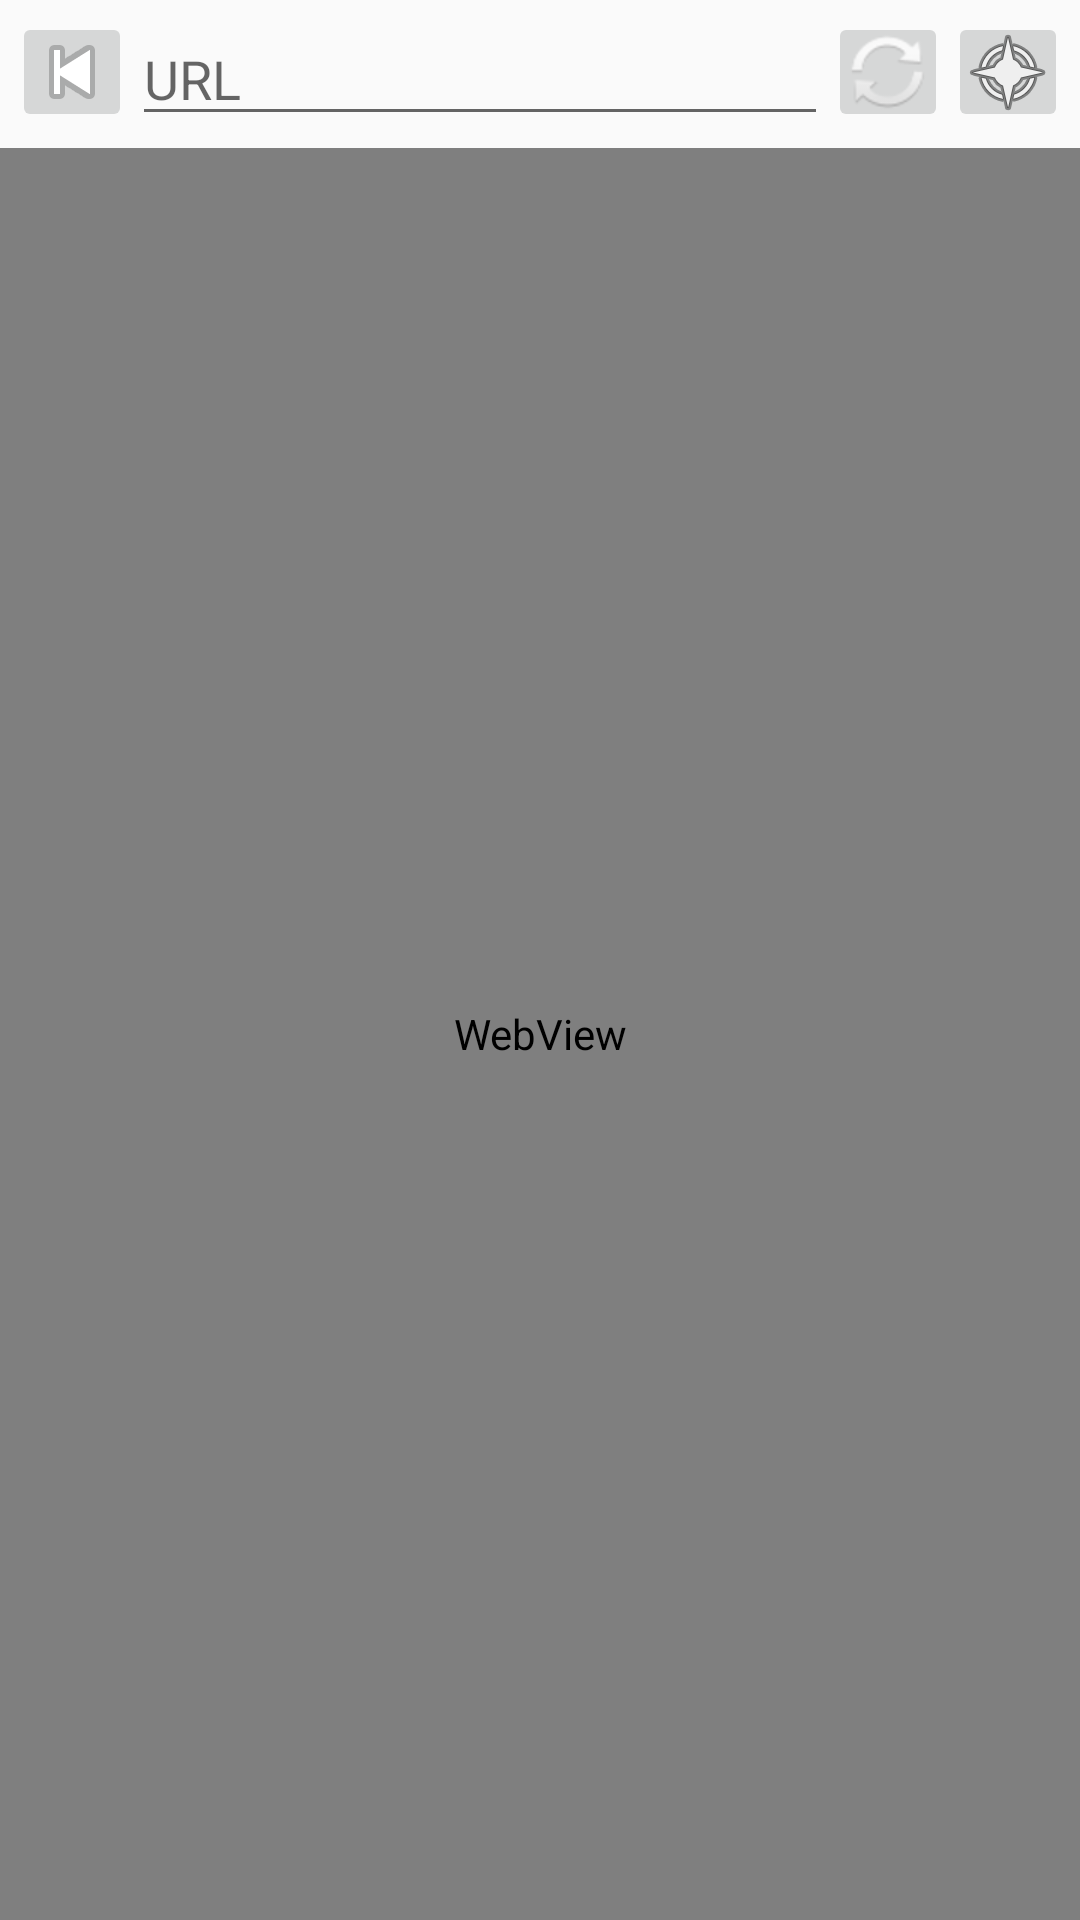

Screen size 1080 × 1920. Icon name, then its box in pixels as [x1=x1, y1=y1, x2=x2, y2=y2]:
compass: [x1=960, y1=30, x2=1056, y2=114]
popup sync: [x1=840, y1=30, x2=936, y2=114]
previous: [x1=24, y1=30, x2=120, y2=114]
